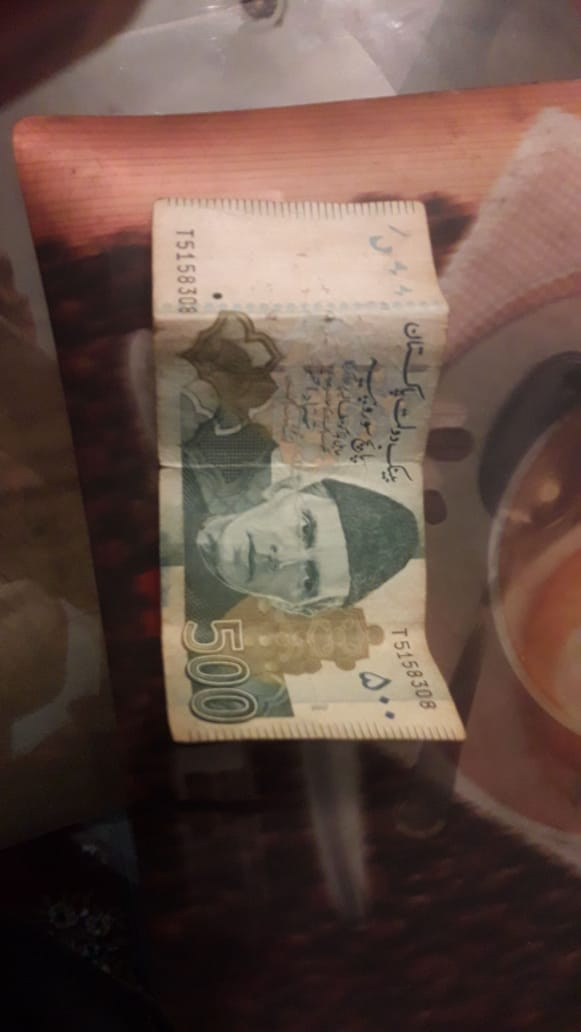500 rupee: (119, 189, 490, 758)
